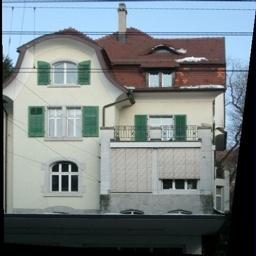building: (2, 4, 227, 216)
